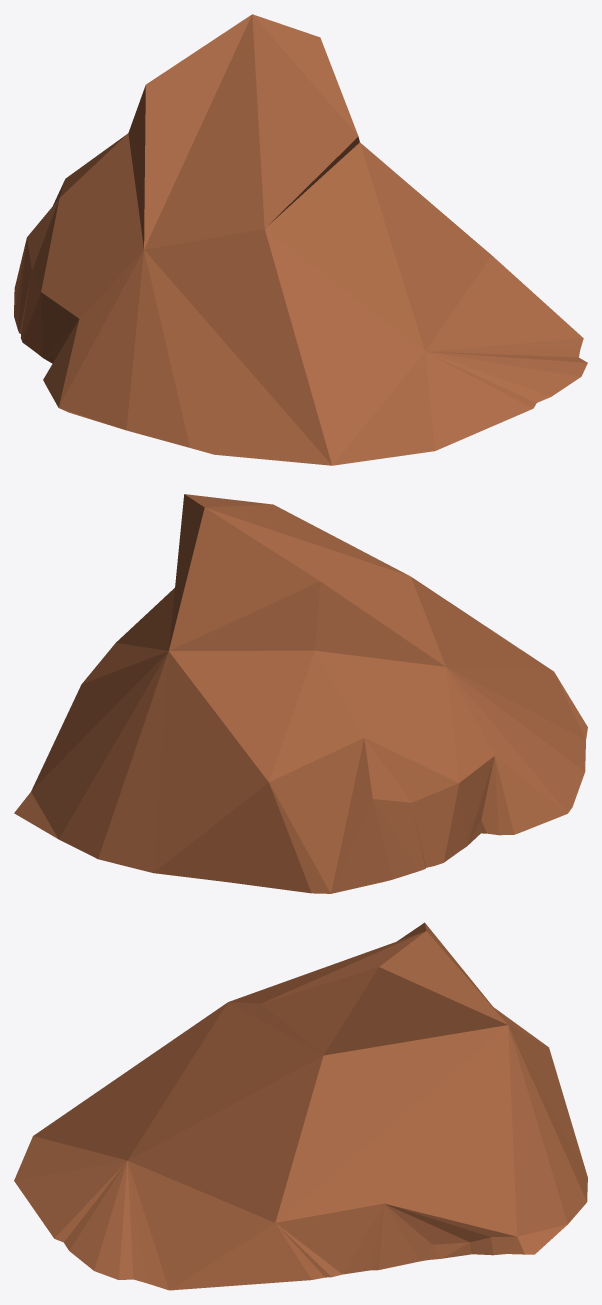
Rendered from SM_mountain.fbx.
3 renders of one model, top to bottom at view 1: azimuth 30°, elevation 25°; view 2: azimuth 150°, elevation 25°; view 3: azimuth 270°, elevation 25°, orthographic. The views are drawn at different scales.
Visible parts, largest first — view 1: mountain; view 2: mountain; view 3: mountain.
Boxes of the visible parts, x1,y1,x2,y2 form: mountain: (14,14,587,465); mountain: (14,494,587,893); mountain: (14,922,587,1290).
Bounding box in the file's own units: 1574 × 890 × 1740.
